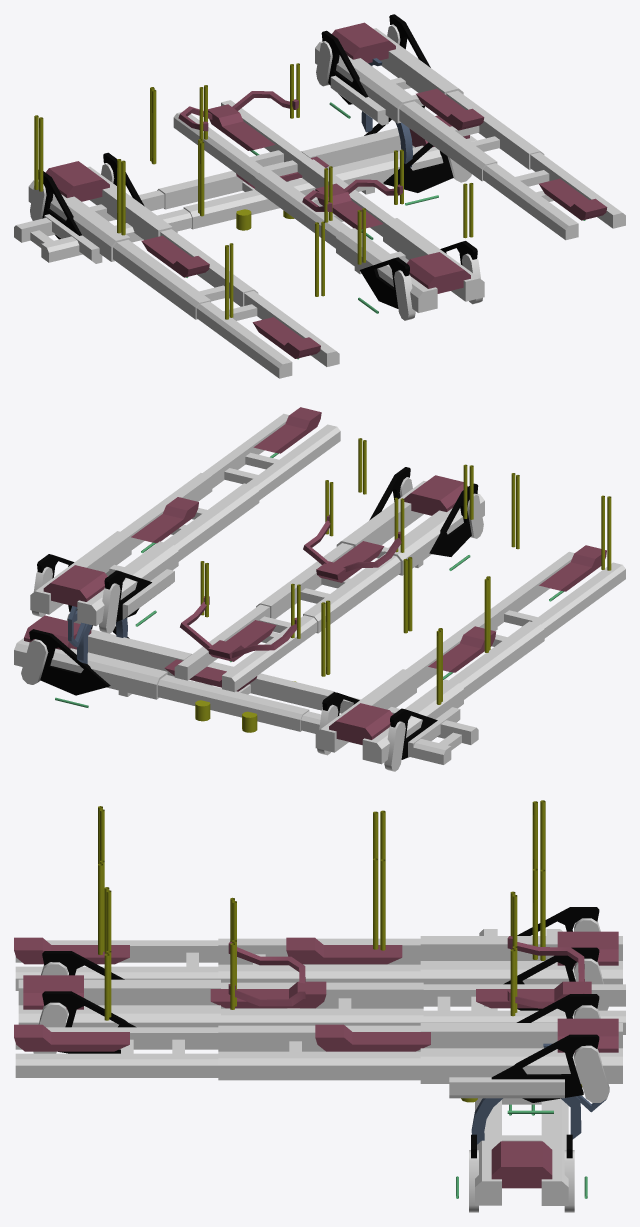
Rendered from mech corn out lod1.FBX.
The picture shows the model from 3 angles, top to bottom: view 1: azimuth 30°, elevation 25°; view 2: azimuth 150°, elevation 25°; view 3: azimuth 270°, elevation 25°; orthographic projection. The views are drawn at different scales.
Parts seen in each view (by area): view 1: Group010, Cylinder022, Cylinder020, Cylinder021, Cylinder023, Cylinder024, Cylinder025; view 2: Group010, Cylinder020, Cylinder022, Cylinder021, Cylinder023, Cylinder024, Cylinder025; view 3: Group010, Cylinder022, Cylinder021, Cylinder023, Cylinder020, Cylinder025, Cylinder024.
Boxes of the visible parts, bbox=[...] form: Group010: bbox=[14, 14, 625, 378]; Cylinder022: bbox=[34, 87, 156, 191]; Cylinder020: bbox=[225, 221, 324, 319]; Cylinder021: bbox=[117, 139, 204, 235]; Cylinder023: bbox=[357, 183, 473, 264]; Cylinder024: bbox=[324, 149, 403, 222]; Cylinder025: bbox=[199, 63, 299, 140]; Group010: bbox=[14, 407, 625, 771]; Cylinder020: bbox=[511, 473, 611, 570]; Cylinder022: bbox=[321, 600, 442, 704]; Cylinder021: bbox=[403, 557, 490, 652]; Cylinder023: bbox=[358, 438, 473, 519]; Cylinder024: bbox=[325, 480, 404, 552]; Cylinder025: bbox=[200, 561, 300, 638]; Group010: bbox=[14, 907, 625, 1212]; Cylinder022: bbox=[532, 800, 545, 960]; Cylinder021: bbox=[373, 810, 385, 950]; Cylinder023: bbox=[104, 887, 111, 1020]; Cylinder020: bbox=[98, 806, 104, 954]; Cylinder025: bbox=[510, 891, 517, 1016]; Cylinder024: bbox=[230, 897, 236, 1009].
Bounding box in the file's own units: 9 × 2.92 × 9.07.
